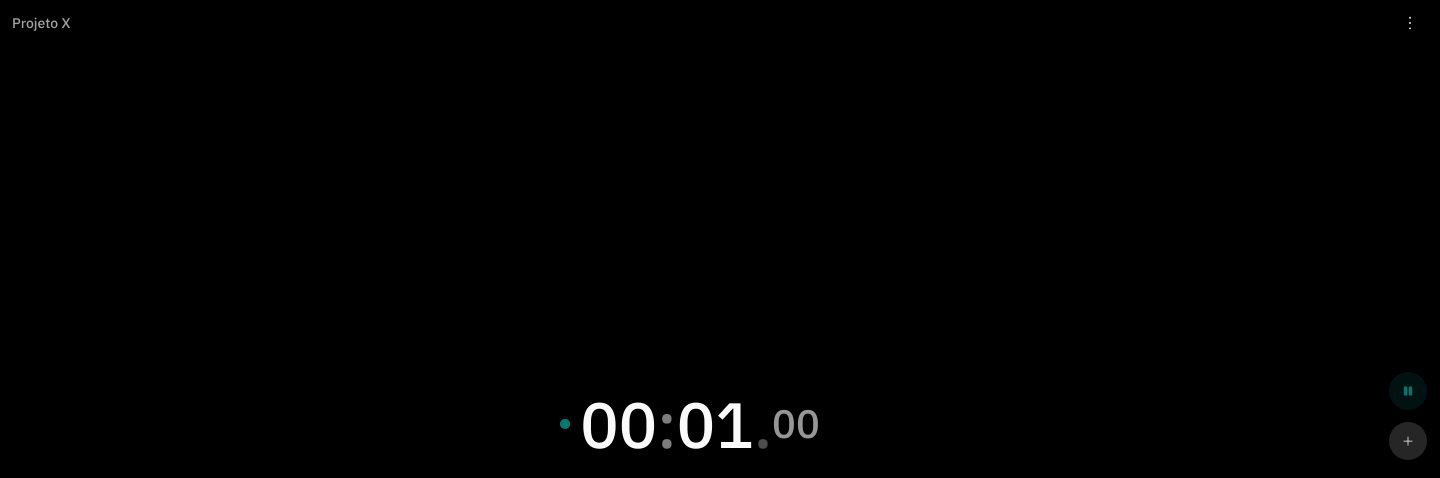
Test case: PiPContent › pauses and prefills the lap name when adding a lap
Click the button named "Volta" at x=1408, y=441, box [1388,421,1428,461]
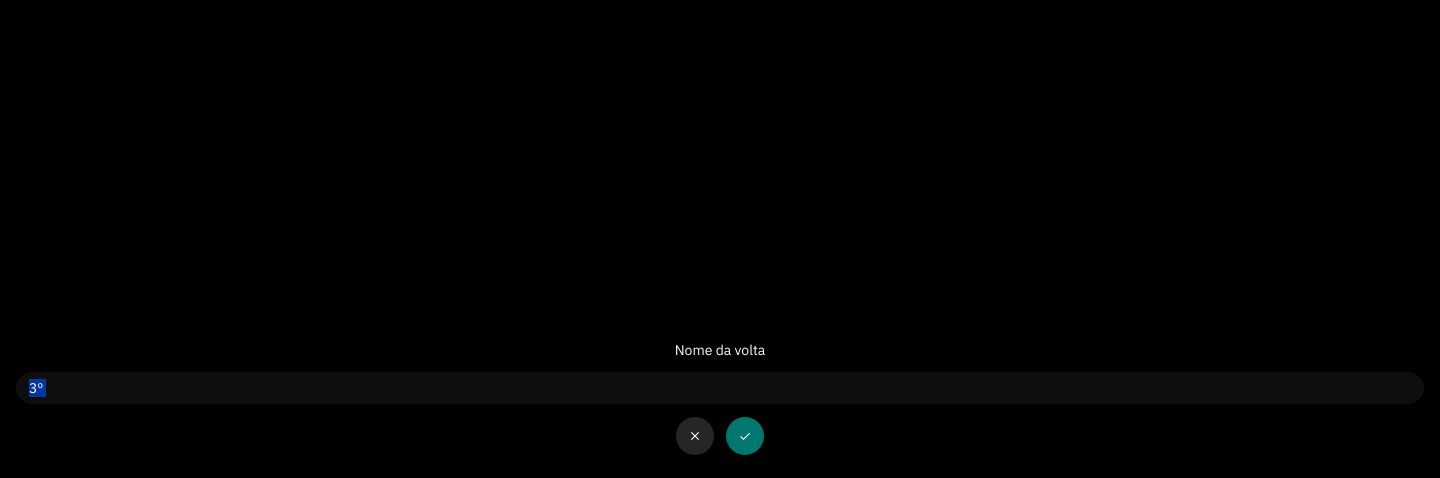
Expected: the field holds "3º ", [16,372,1424,404]
